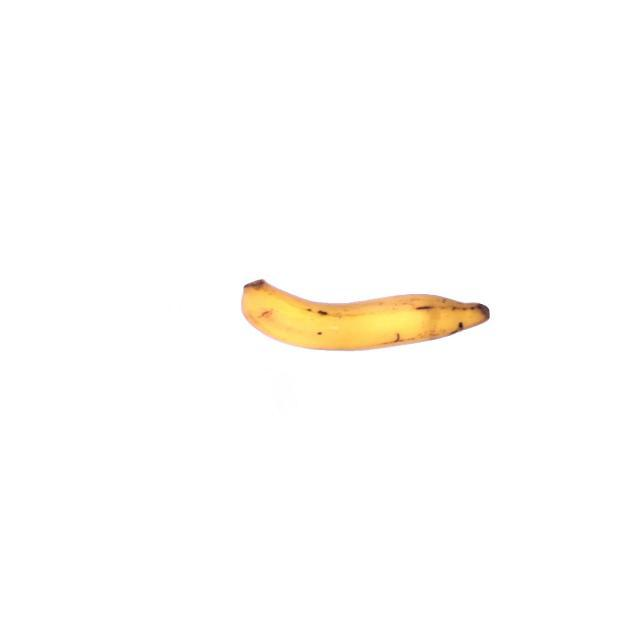banana: (237, 276, 492, 356)
